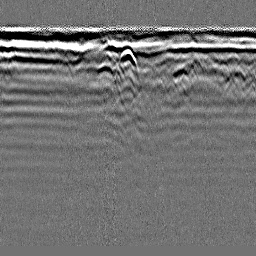cavity: (120, 46, 136, 72)
